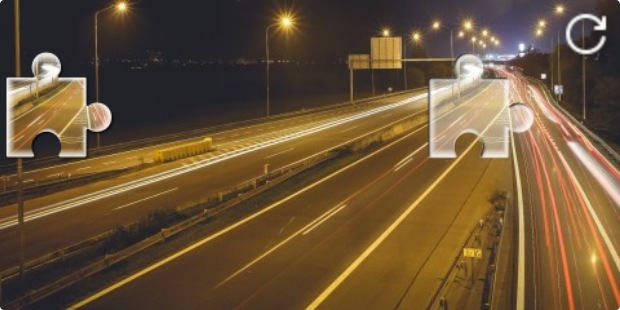target: (429, 54, 534, 157)
